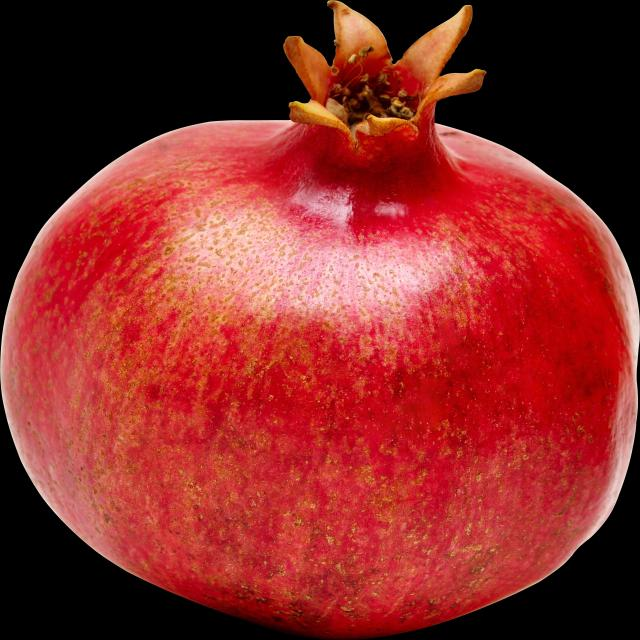apple: (5, 5, 640, 630)
